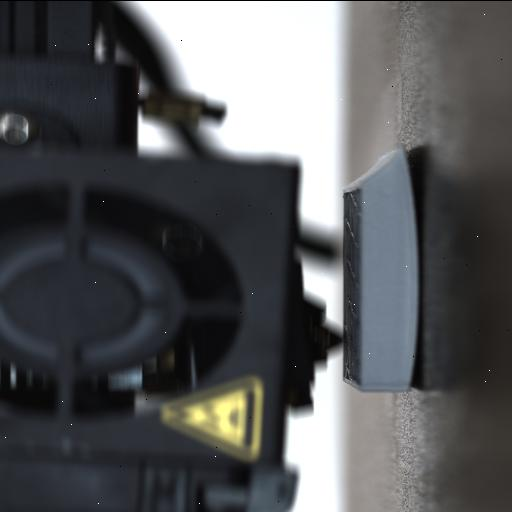warp: (394, 345, 421, 397), (393, 140, 415, 200)
